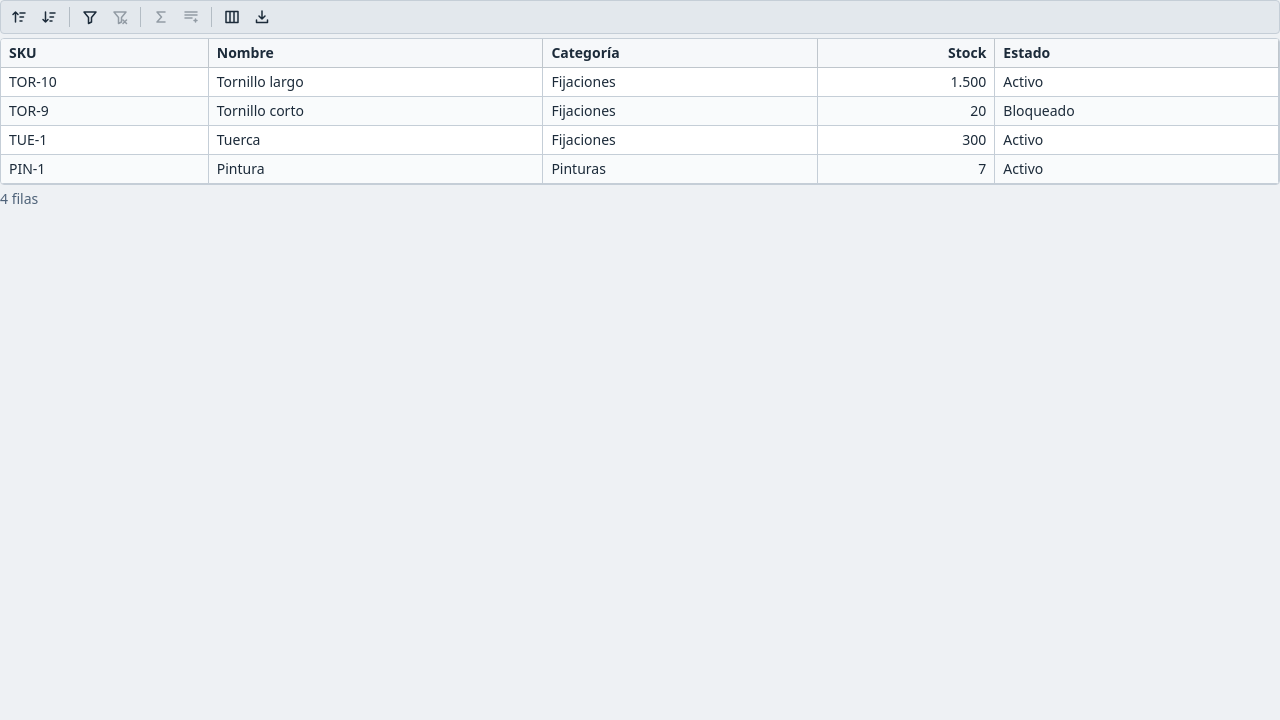
it: DataGrid en modo local › filtra por varios valores de una lista
This screenshot has width=1280, height=720.
Click the cell "Bloqueado".
click(1137, 112)  # box [995,97,1279,126]
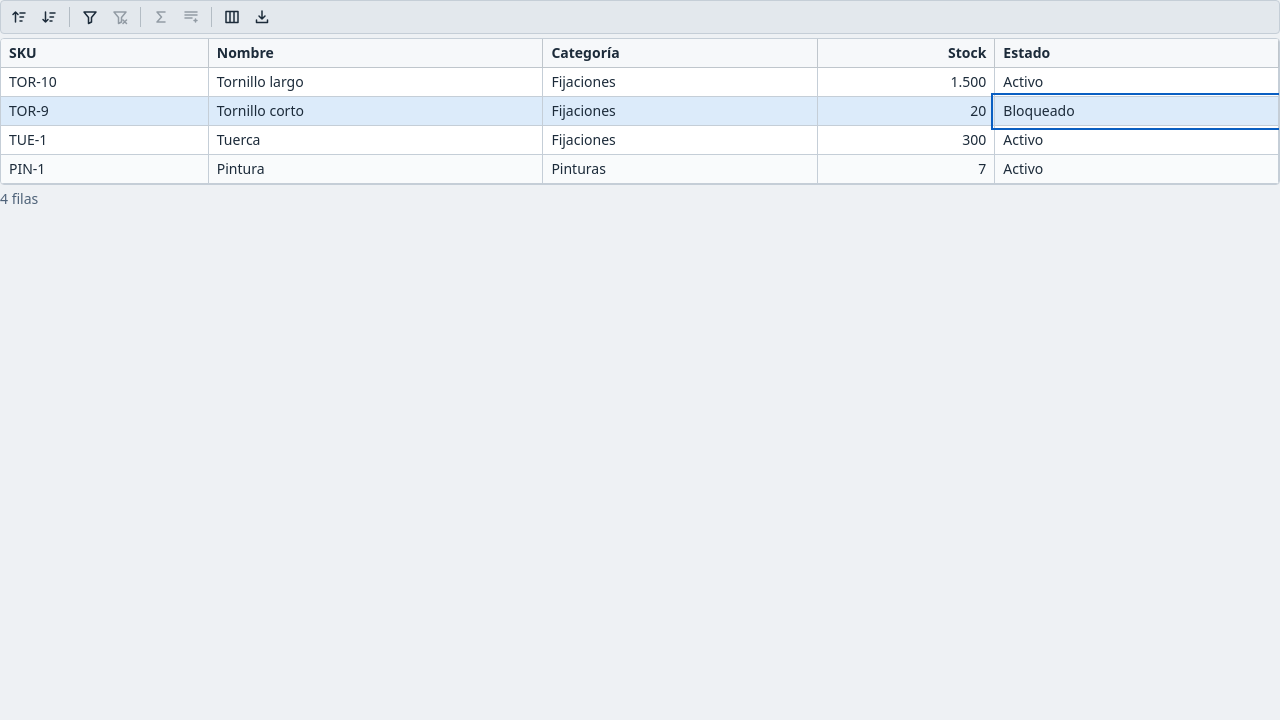
Click the button named "Definir filtro (Estado)".
click(90, 17)  # box [76,3,104,31]
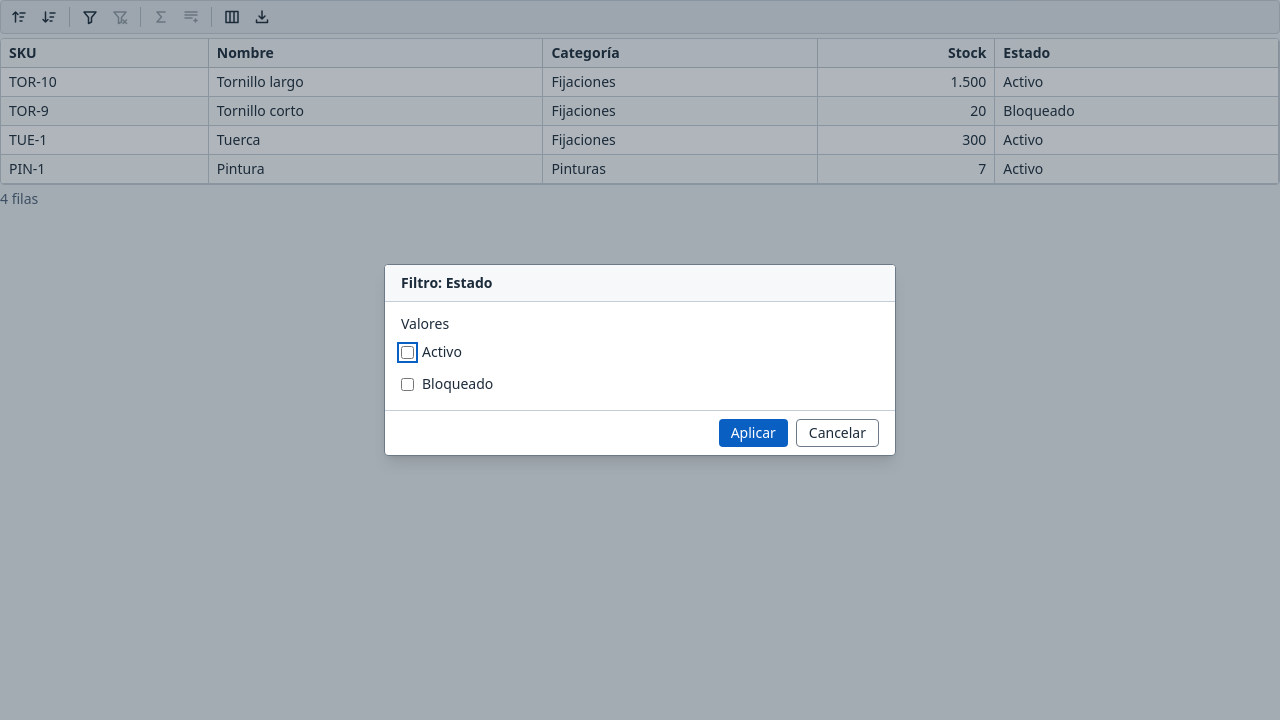
Click the checkbox labelled "Bloqueado".
click(408, 384)  # box [401,378,414,390]
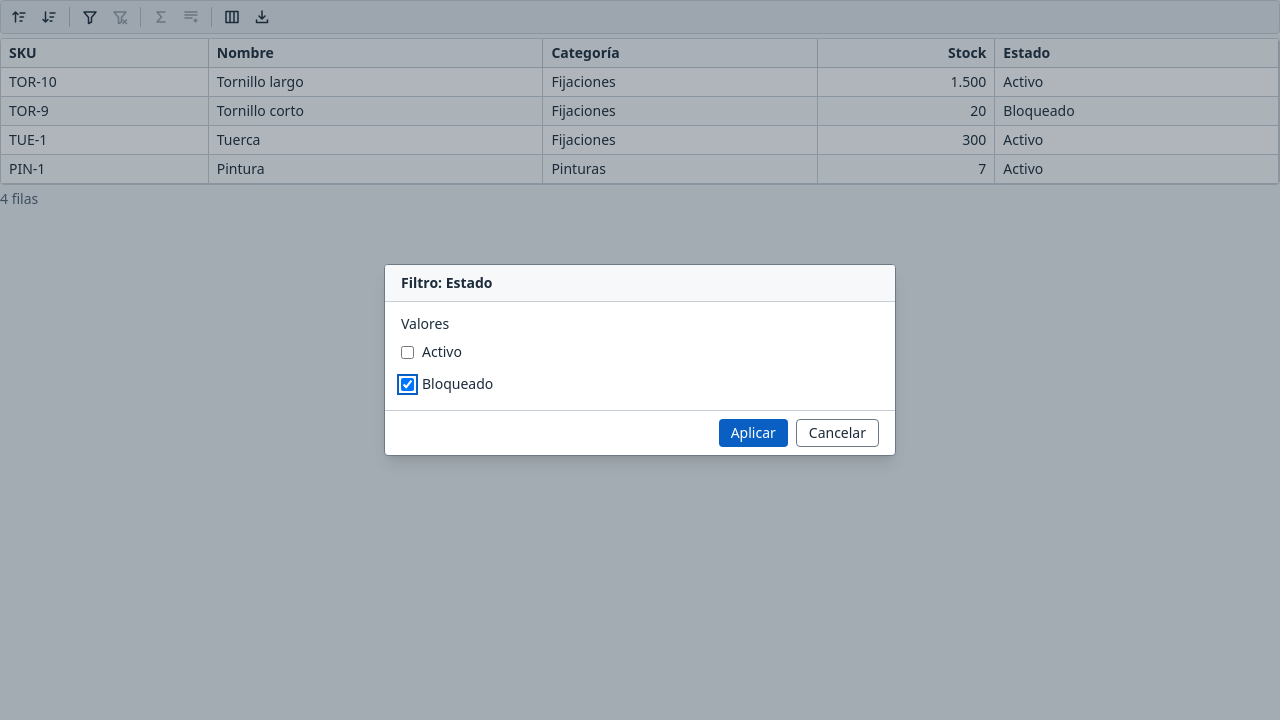
Click the button "Aplicar".
click(753, 433)  # box [719,419,788,447]
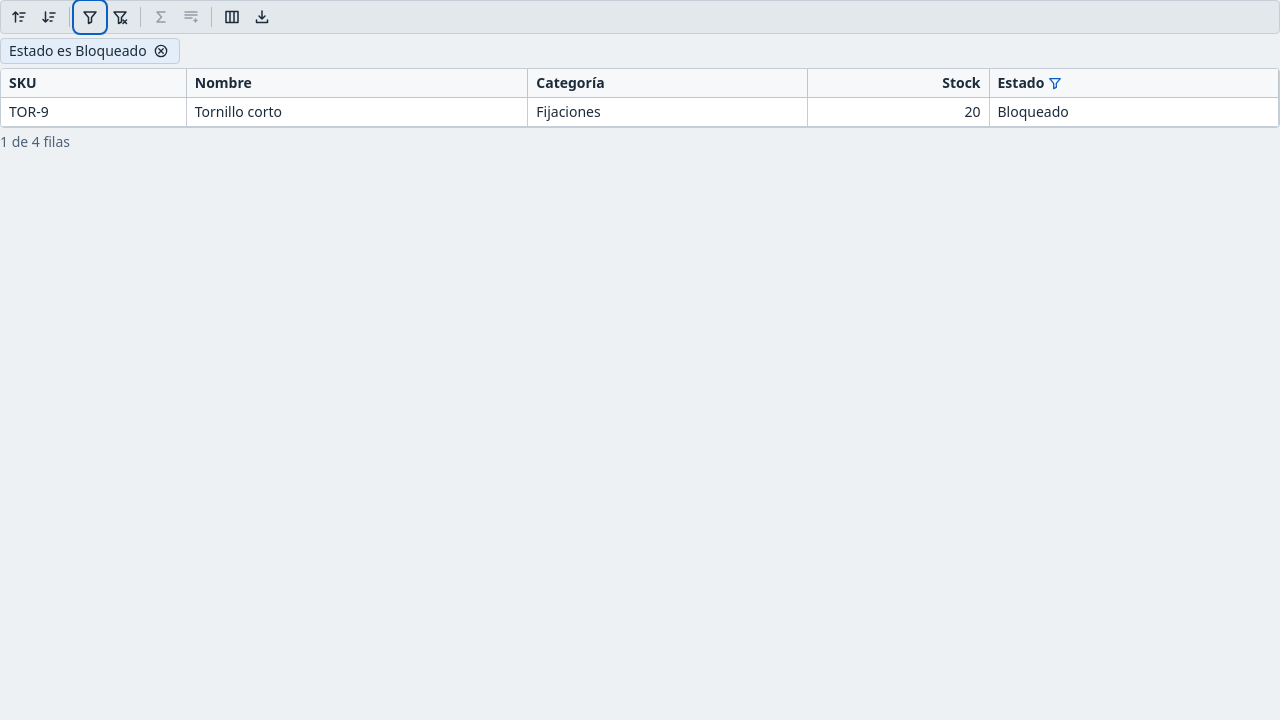
Result: the text "Estado es Bloqueado" is shown at [9,41,147,61]
